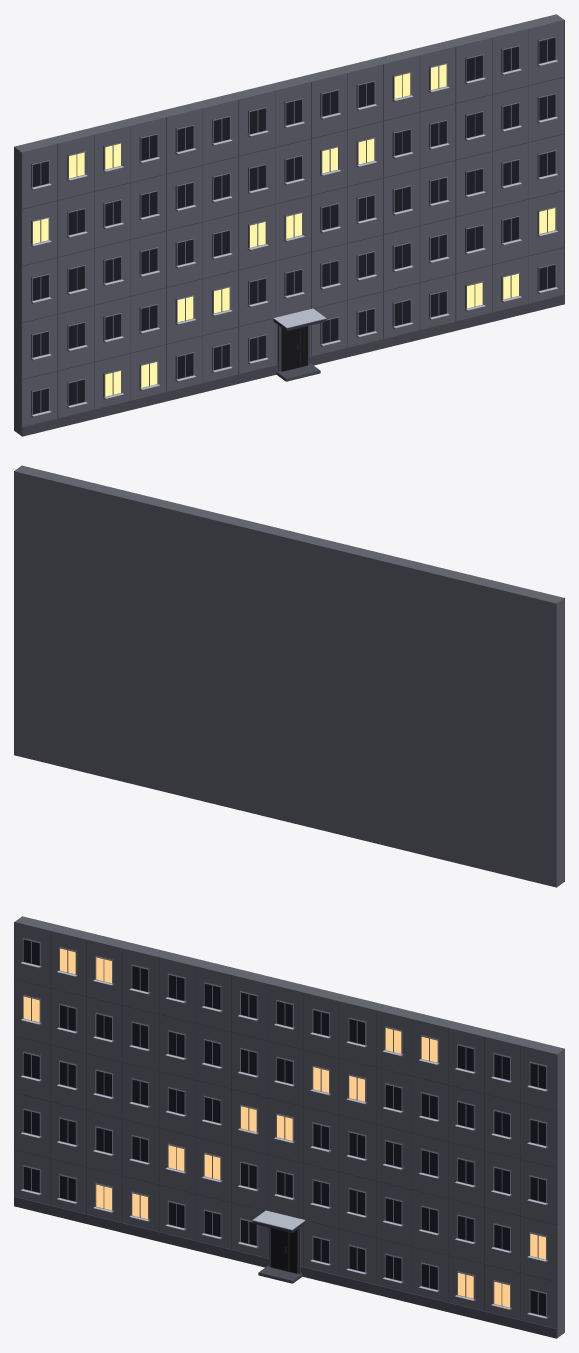
The model's file is building_facade.glb.
3 renders of one model, top to bottom at view 1: azimuth 30°, elevation 25°; view 2: azimuth 150°, elevation 25°; view 3: azimuth 330°, elevation 25°, orthographic.
Parts seen in each view (by area): view 1: building_facade_wall, building_facade_panel_seam, building_facade_window_frame, building_facade_snow, building_facade_door; view 2: building_facade_wall; view 3: building_facade_wall, building_facade_panel_seam, building_facade_window_frame, building_facade_snow, building_facade_door.
Part boxes in pixels (box(x1,y1,x2,y2)): building_facade_wall: box(14, 14, 564, 435); building_facade_panel_seam: box(21, 20, 564, 436); building_facade_window_frame: box(32, 36, 556, 414); building_facade_snow: box(31, 60, 557, 416); building_facade_door: box(281, 326, 307, 371); building_facade_wall: box(14, 465, 564, 887); building_facade_wall: box(14, 916, 564, 1337); building_facade_panel_seam: box(14, 922, 557, 1338); building_facade_window_frame: box(22, 938, 546, 1316); building_facade_snow: box(21, 962, 547, 1318); building_facade_door: box(271, 1228, 297, 1273).
Size of the model in its own units: 24.02 by 12 by 1.62.
